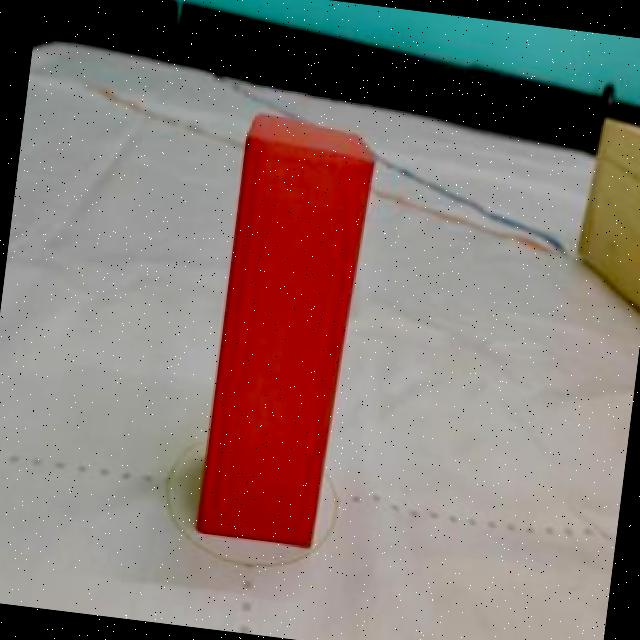redbox: (195, 109, 378, 548)
